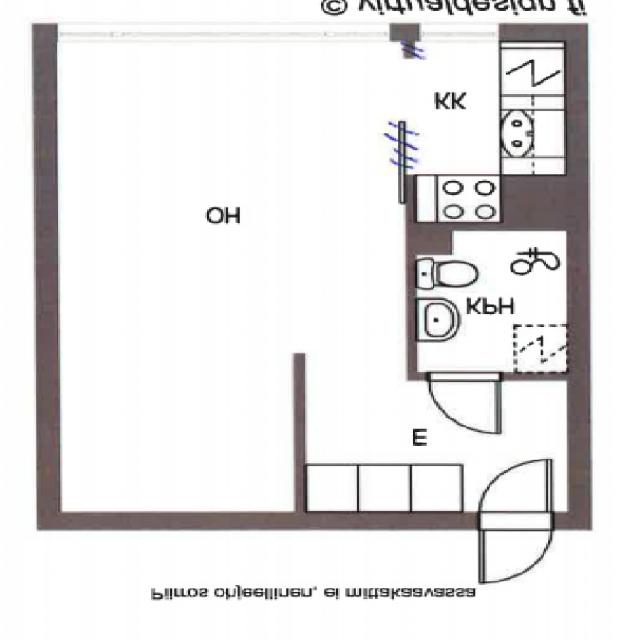door: (480, 457, 554, 529), (480, 513, 554, 583), (429, 372, 499, 430)
